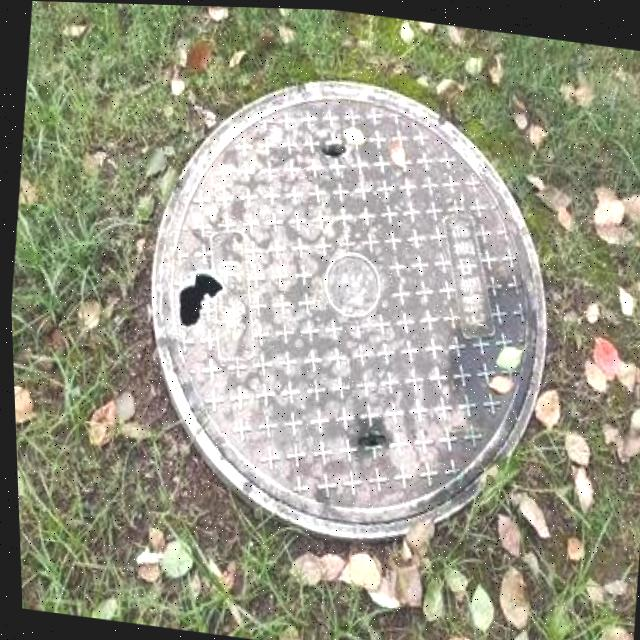manhole: (112, 47, 558, 547)
